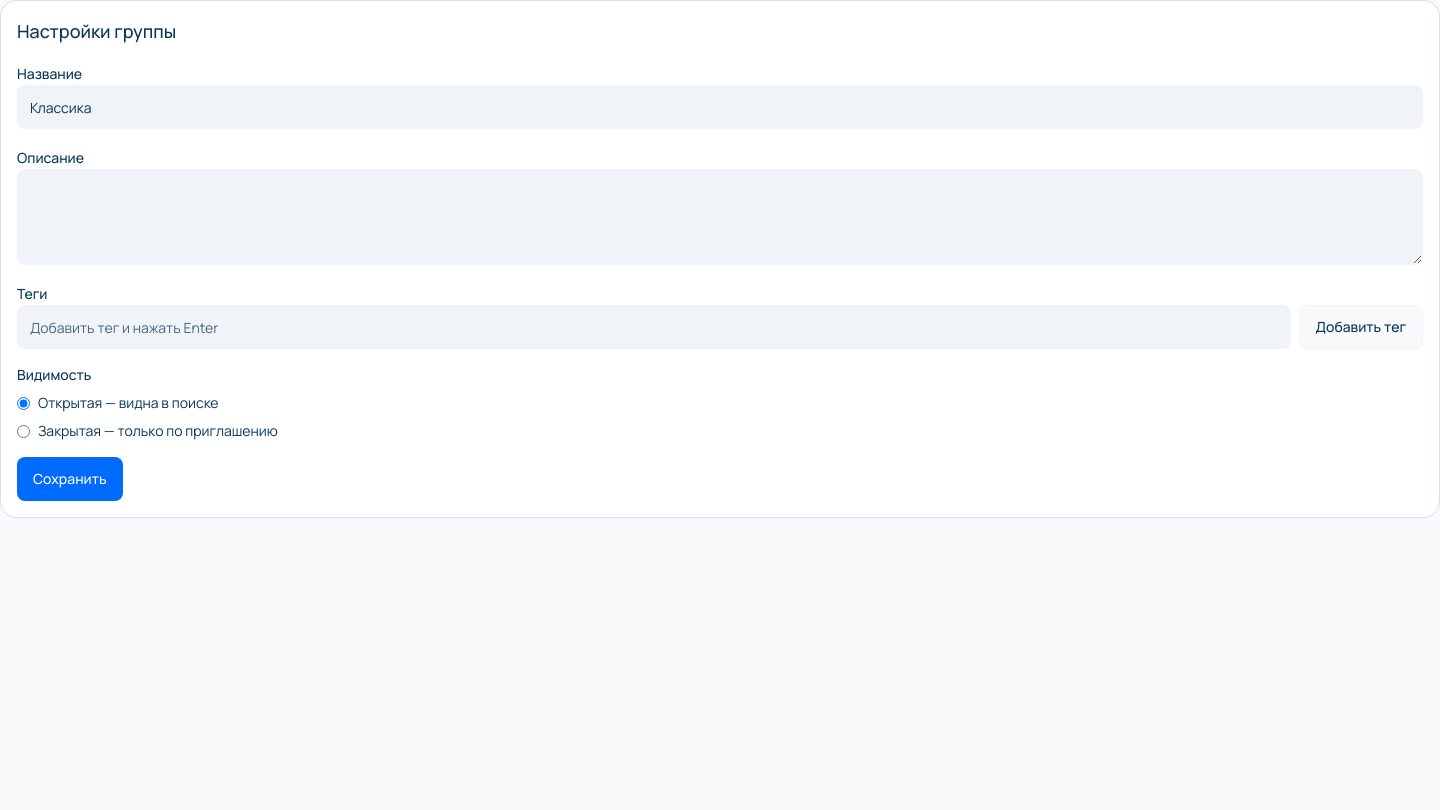
Test: GroupSettingsForm feedback › shows a success toast and keeps the inline saved state
Click the button "Сохранить" at x=70, y=479, box [17,457,123,501]
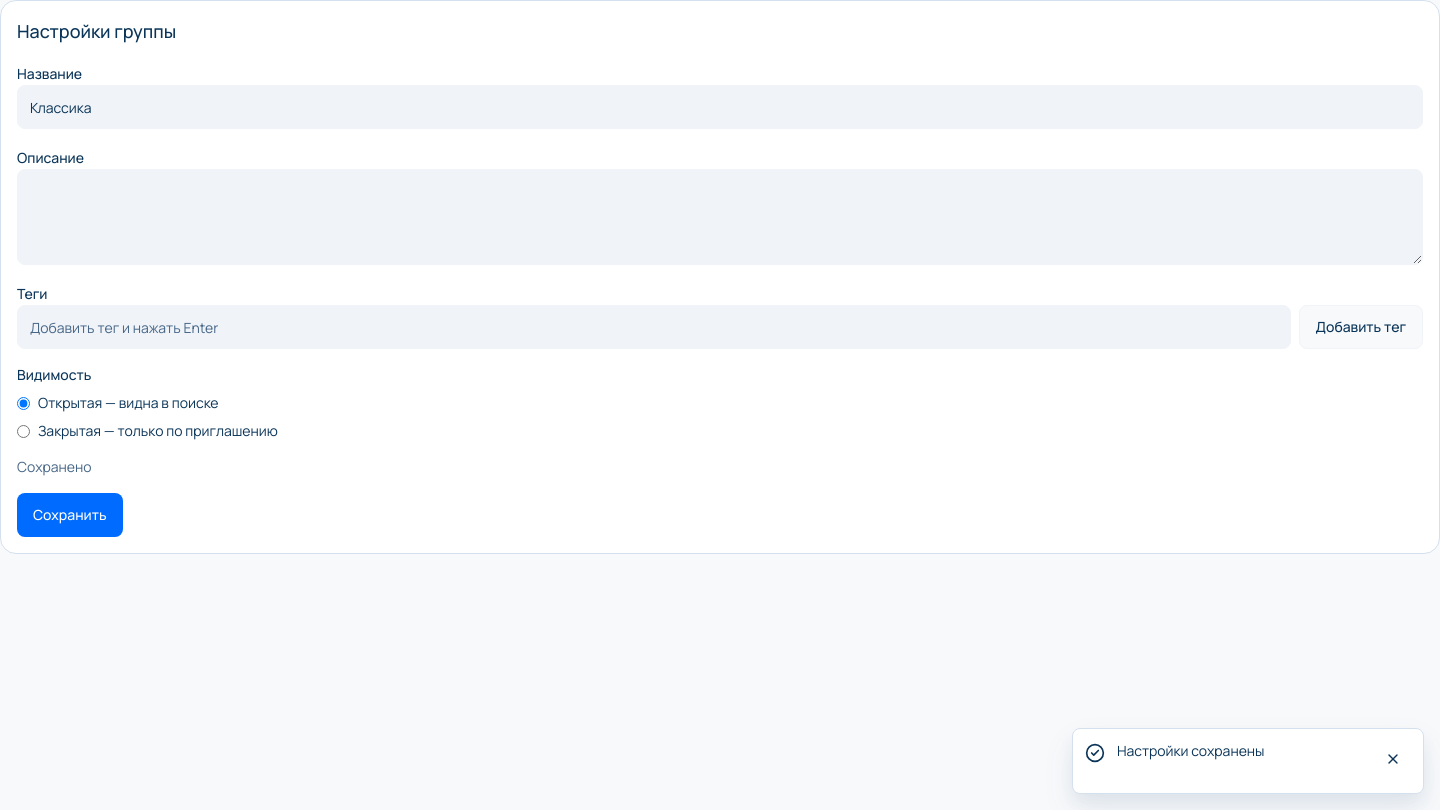
Expected: the list item with test id "toast" reads "Настройки сохранены", [1117,741,1264,760]
Expected: the text "Сохранено" is shown, [17,457,92,476]
